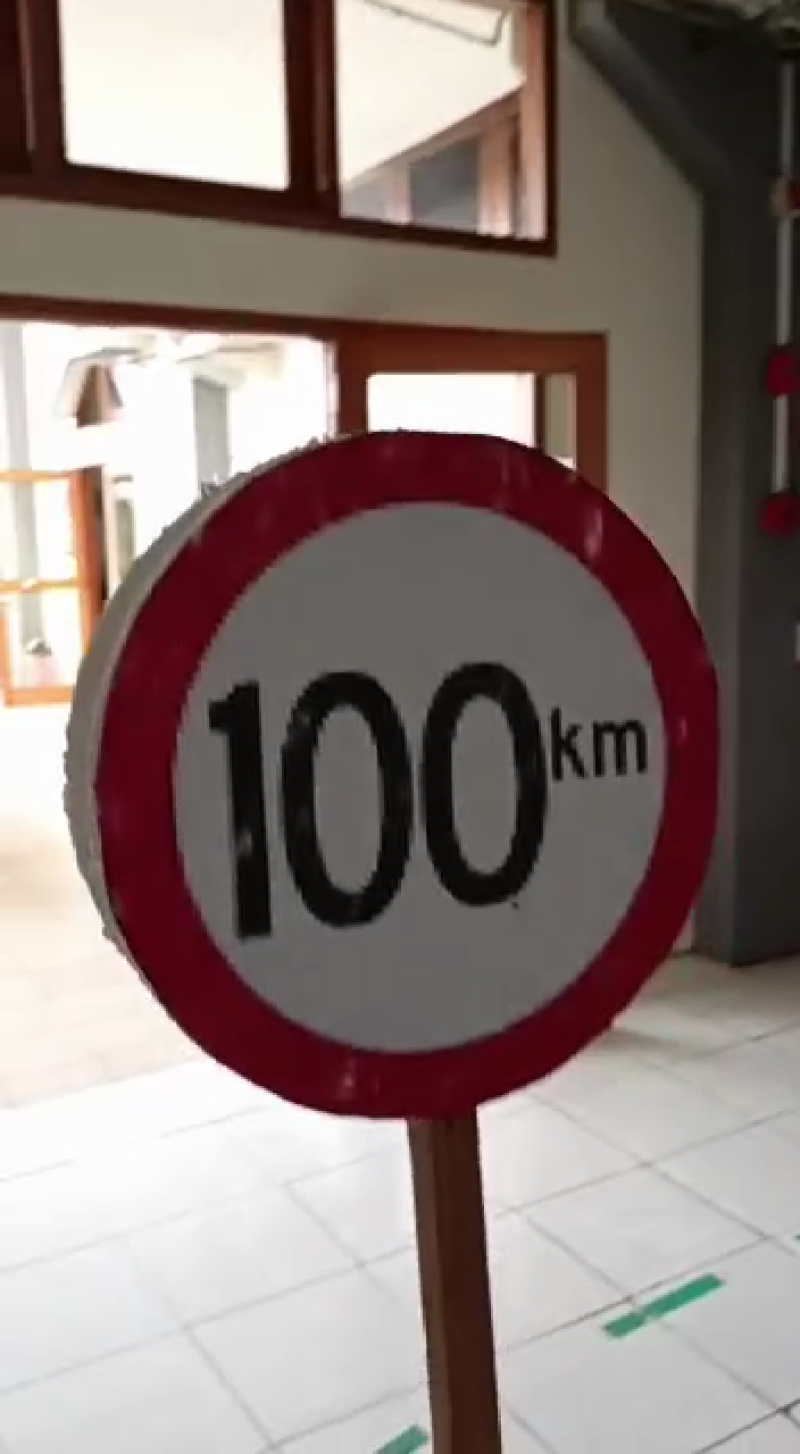batas maksimal 100kmperjam: (88, 422, 737, 1129)
